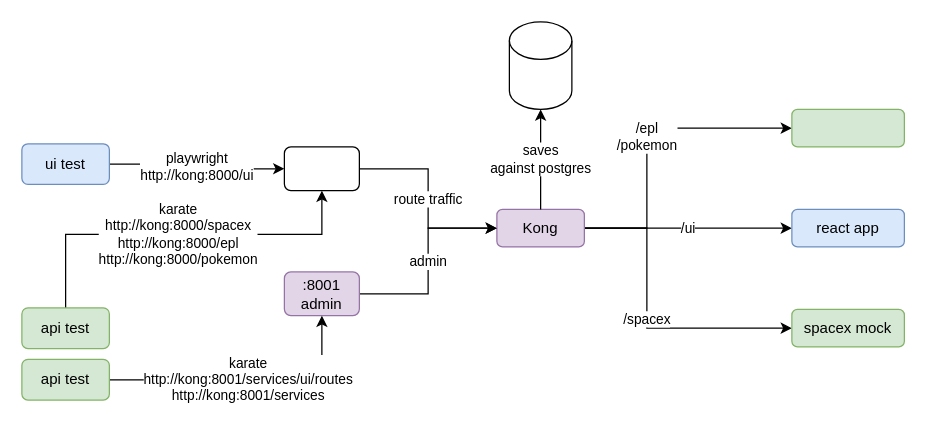
Image size: 926x426. Some labels were removed from this diagram. Each missing label, with the centre of its shape:
:8000 gateway: (321,168)
microservice: (847,127)
postgres: (540,65)
